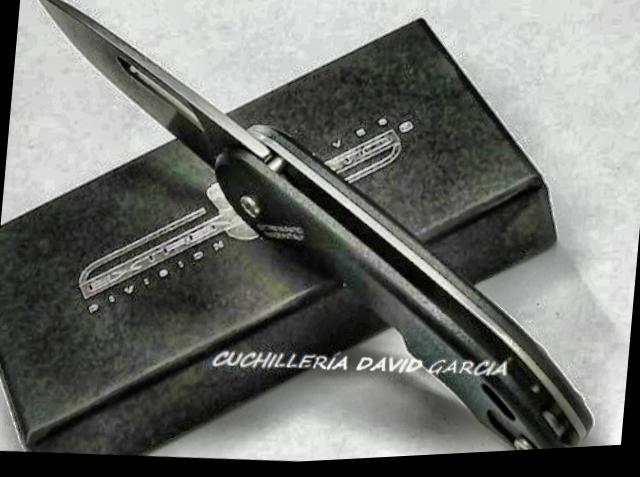knife: (8, 0, 253, 185)
